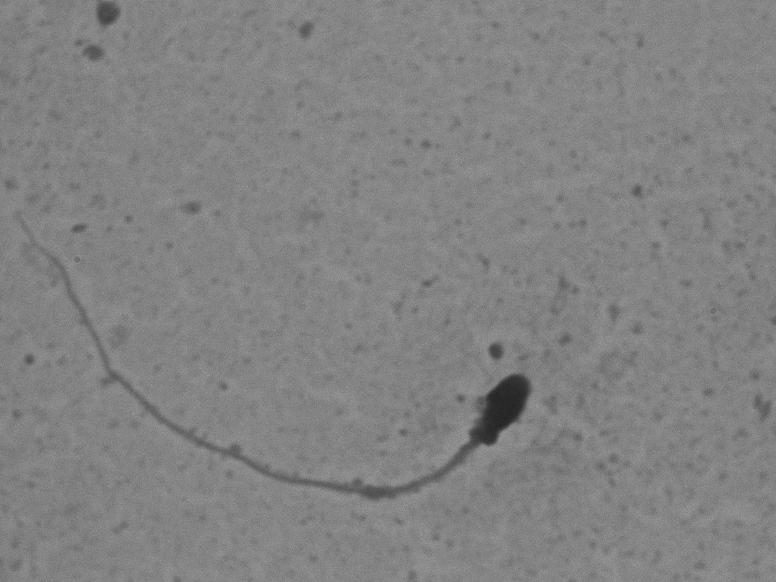Abnormal: (9, 192, 590, 526)
